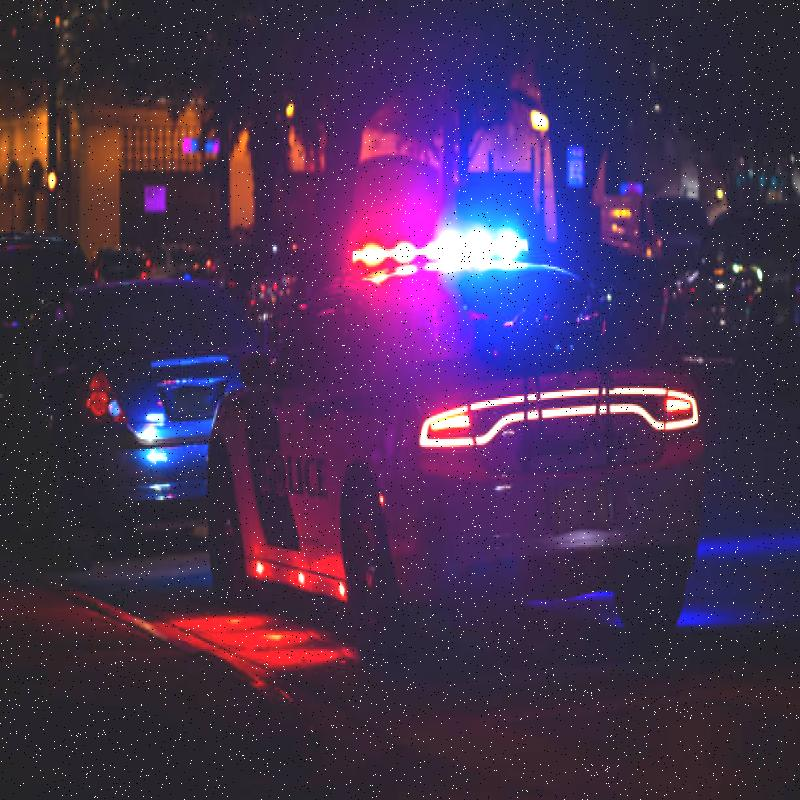AmbulanceSiren: (335, 225, 526, 281)
